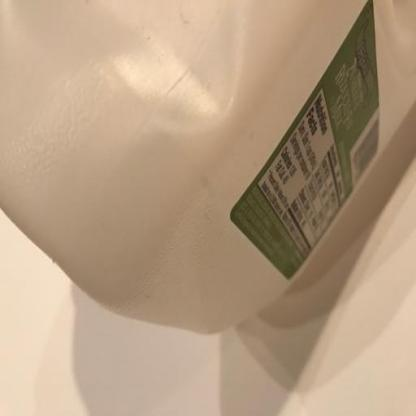Plastic: (1, 1, 416, 333)
